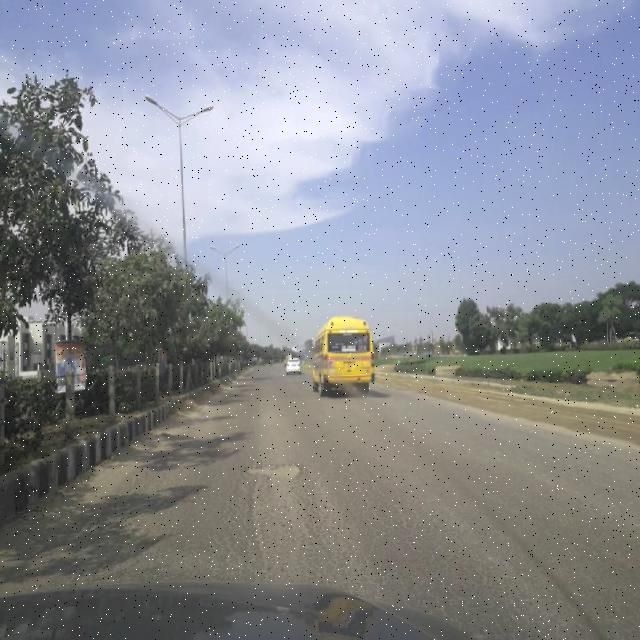D20: (122, 430, 640, 580)
D40: (242, 458, 306, 481)
